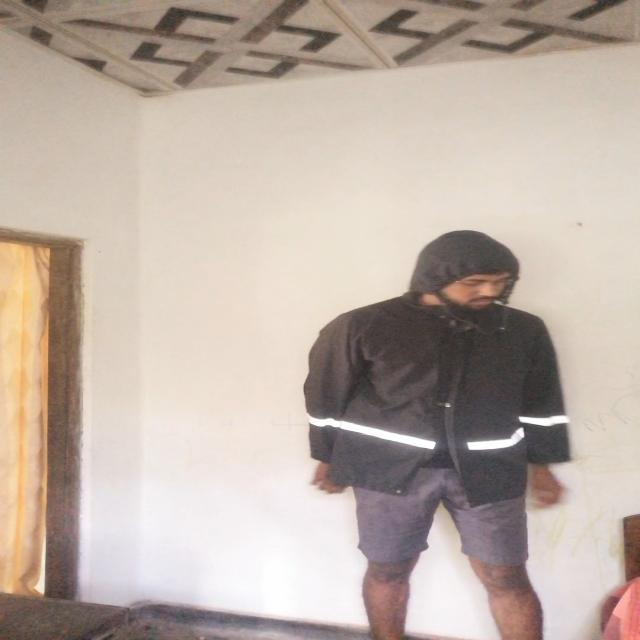Jacket_Wearer: (294, 231, 600, 508)
